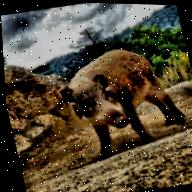boar: (45, 25, 192, 172)
